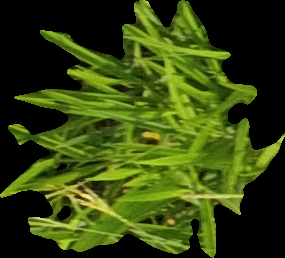grass: (1, 1, 284, 257)
